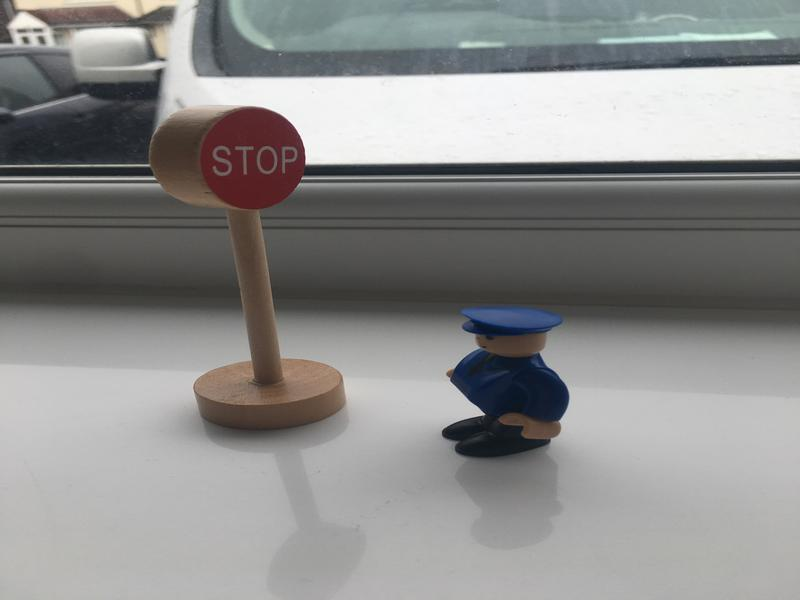Traffic_Sign_Stop: (204, 109, 302, 207)
person: (440, 307, 572, 458)
